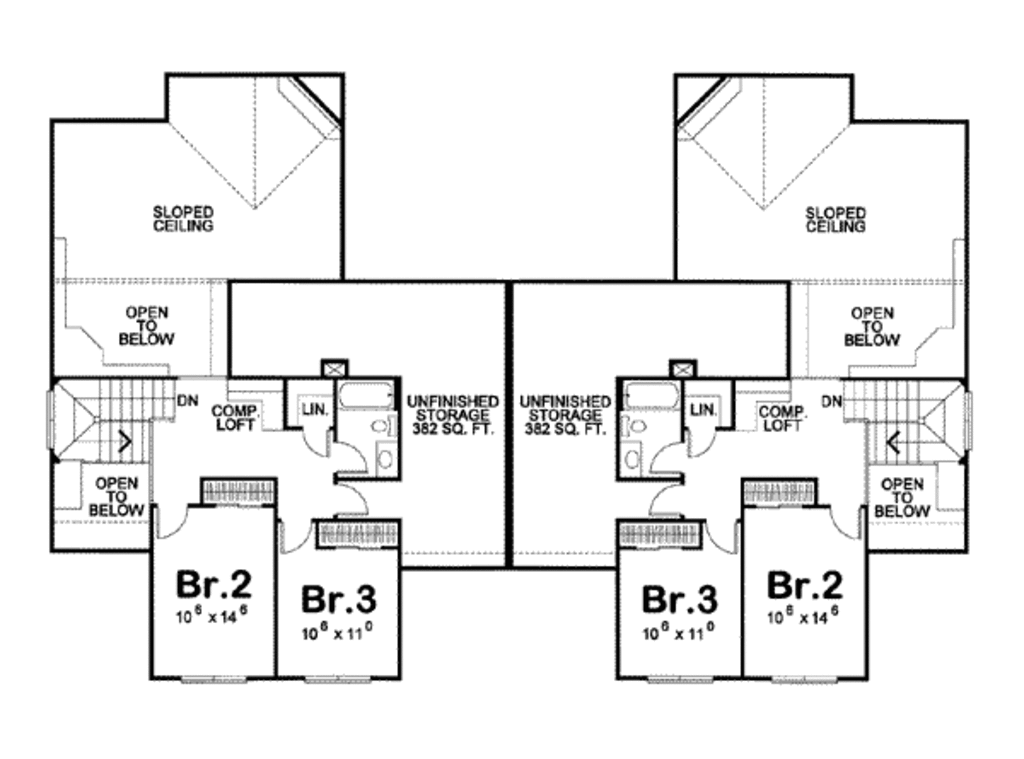door: (635, 476, 692, 521), (645, 440, 696, 481), (703, 515, 745, 561), (150, 498, 189, 547), (830, 502, 864, 547), (680, 418, 716, 460), (280, 515, 316, 557), (331, 480, 372, 516), (332, 442, 372, 475), (301, 423, 332, 462)
large_sink: (615, 411, 655, 437), (368, 410, 400, 438)
small_sink: (617, 430, 642, 483), (378, 447, 396, 481)
stairs: (40, 367, 182, 461), (836, 376, 964, 470)
tub: (620, 375, 690, 412), (336, 376, 400, 407)
window: (644, 667, 723, 690), (762, 665, 851, 685), (307, 675, 375, 688), (183, 674, 247, 687)
